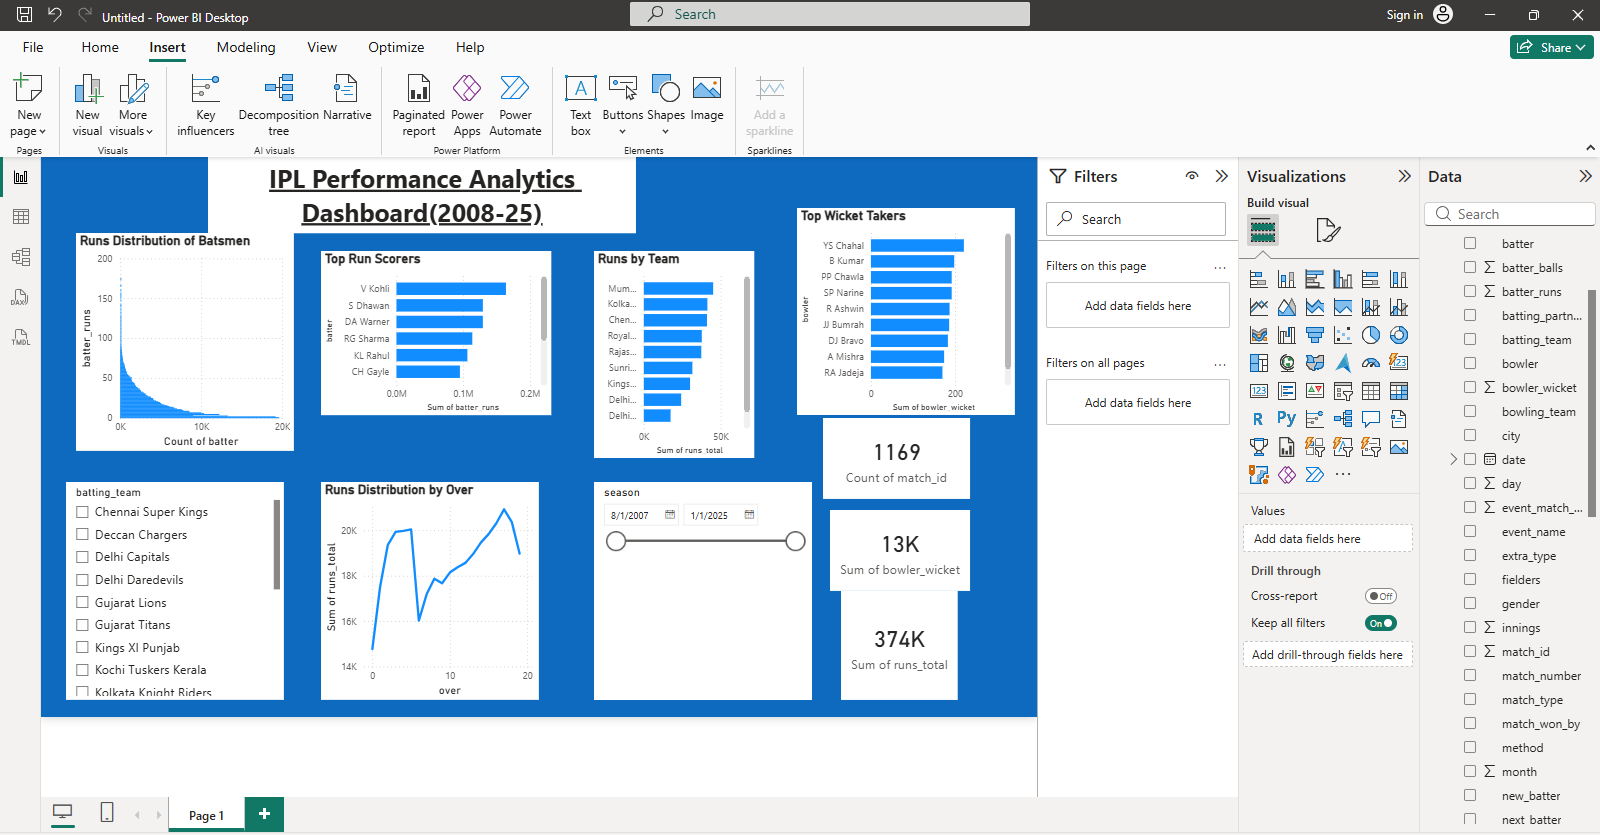

Layout of this report page (visuals, bound fields, positions):
{"tool":"powerbi","page":{"name":"Page 1","canvas":[1280,720],"ordinal":0},"visuals":[{"type":"clusteredBarChart","title":"Runs Distribution of Batsmen","fields":{"Y":["CountNonNull(ipl_clean.batter)"],"Category":["ipl_clean.batter_runs"]},"box":[45,97.7,280.2,280.2],"z":0},{"type":"slicer","fields":{"Values":["ipl_clean.batting_team"]},"box":[32.1,417.7,280.2,280.2],"z":1000},{"type":"clusteredBarChart","title":"Top Run Scorers","fields":{"Category":["ipl_clean.batter"],"Y":["Sum(ipl_clean.batter_runs)"]},"box":[359.8,120.8,295.6,210.8],"z":2000},{"type":"clusteredBarChart","title":"Top Wicket Takers","fields":{"Category":["ipl_clean.bowler"],"Y":["Sum(ipl_clean.bowler_wicket)"]},"box":[971.6,65.5,280.2,266],"z":3000},{"type":"clusteredBarChart","title":"Runs by Team","fields":{"Category":["ipl_clean.batting_team"],"Y":["Sum(ipl_clean.runs_total)"]},"box":[710.7,120.8,205.6,266],"z":4000},{"type":"lineChart","title":"Runs Distribution by Over","fields":{"Y":["Sum(ipl_clean.runs_total)"],"Category":["ipl_clean.over"]},"box":[359.8,417.7,280.2,280.2],"z":5000},{"type":"slicer","fields":{"Values":["ipl_clean.season"]},"box":[710.7,417.7,280.2,280.2],"z":6000},{"type":"card","fields":{"Values":["Sum(ipl_clean.runs_total)"]},"box":[1028.1,557.8,150.4,140.1],"z":6001},{"type":"card","fields":{"Values":["Sum(ipl_clean.bowler_wicket)"]},"box":[1014,453.7,179.9,104.1],"z":6002},{"type":"card","fields":{"Values":["Count(ipl_clean.match_id)"]},"box":[1005,335.4,188.9,104.1],"z":6003},{"type":"textbox","box":[214.6,0,550,97.7],"z":6004}]}

Visuals, with their boxes on the page's 1280x720 design canvas (x1, y1, x2, y2). These are canvas units, not pixel positions in the 1600x835 screenshot, which may show the page scaled, cropped or inside an application window:
"Runs Distribution of Batsmen" clusteredBarChart: bbox=(45, 98, 325, 378)
slicer - ipl_clean.batting_team: bbox=(32, 418, 312, 698)
"Top Run Scorers" clusteredBarChart: bbox=(360, 121, 655, 332)
"Top Wicket Takers" clusteredBarChart: bbox=(972, 66, 1252, 332)
"Runs by Team" clusteredBarChart: bbox=(711, 121, 916, 387)
"Runs Distribution by Over" lineChart: bbox=(360, 418, 640, 698)
slicer - ipl_clean.season: bbox=(711, 418, 991, 698)
card - Sum(ipl_clean.runs_total): bbox=(1028, 558, 1178, 698)
card - Sum(ipl_clean.bowler_wicket): bbox=(1014, 454, 1194, 558)
card - Count(ipl_clean.match_id): bbox=(1005, 335, 1194, 440)
textbox: bbox=(215, 0, 765, 98)
